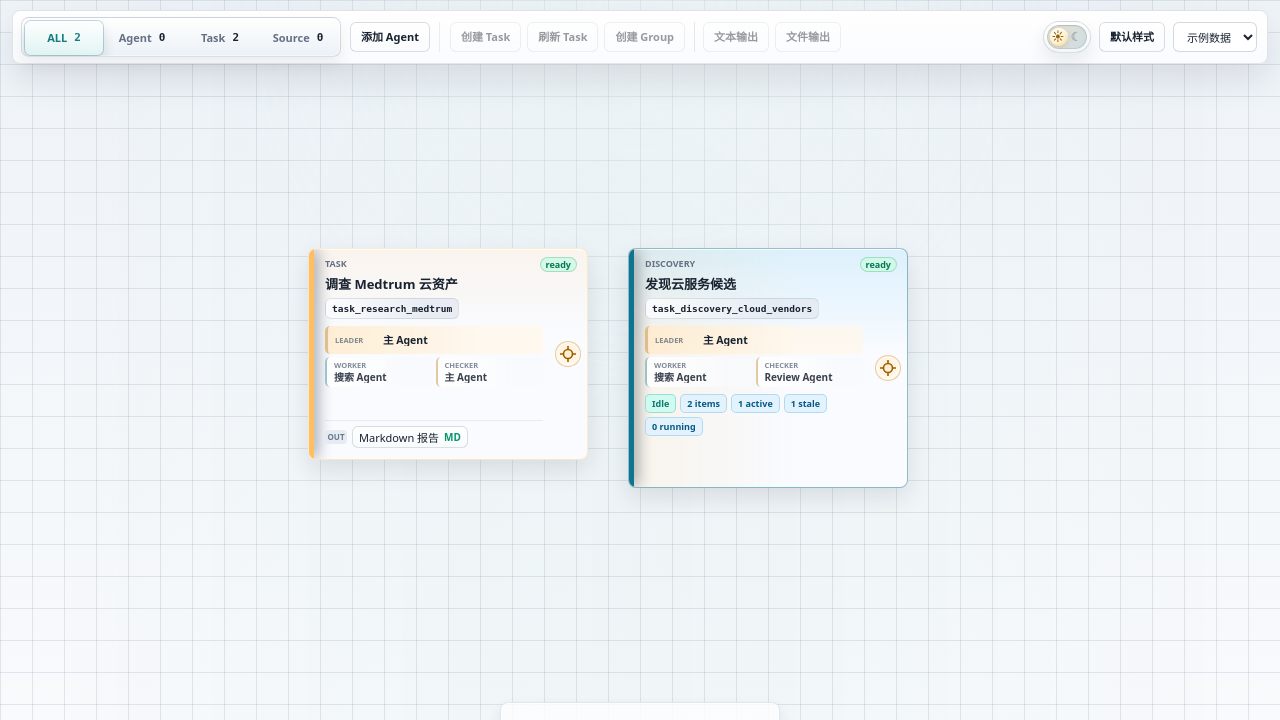
Scenario: App › task control dependency UI › renders dependency handles on Task cards with accessible labels
Select "实时 API" in the dropdown: (1215, 37) [1173,22,1257,52]
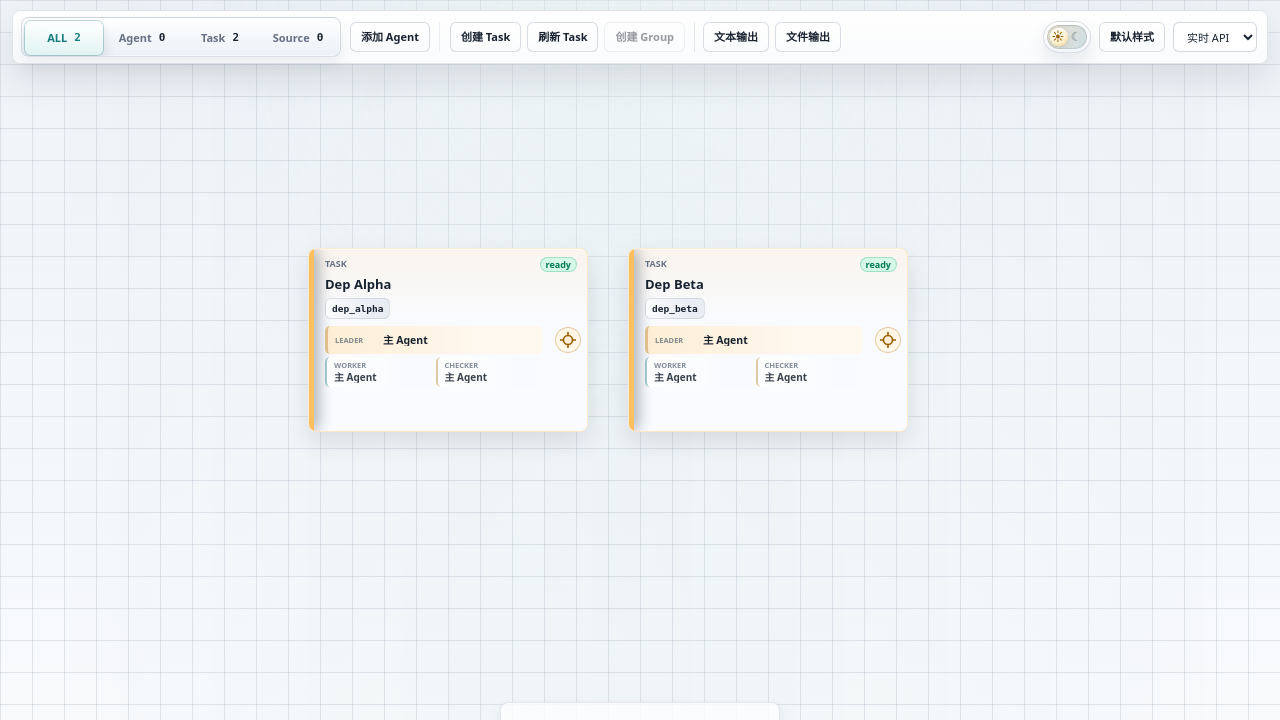
Check: the text "Dep Alpha" is shown, box [325,275,392,293]
